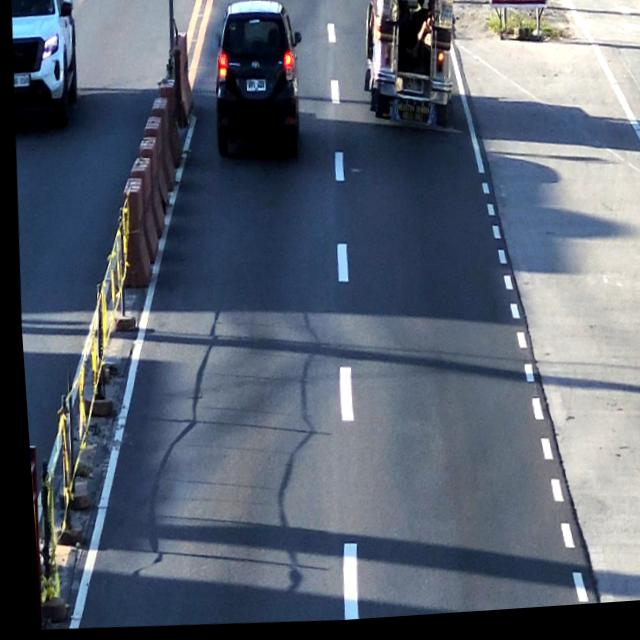Car: (205, 0, 308, 155)
Jeep: (352, 0, 455, 136)
License-Plate: (401, 78, 423, 98), (244, 79, 266, 97)
